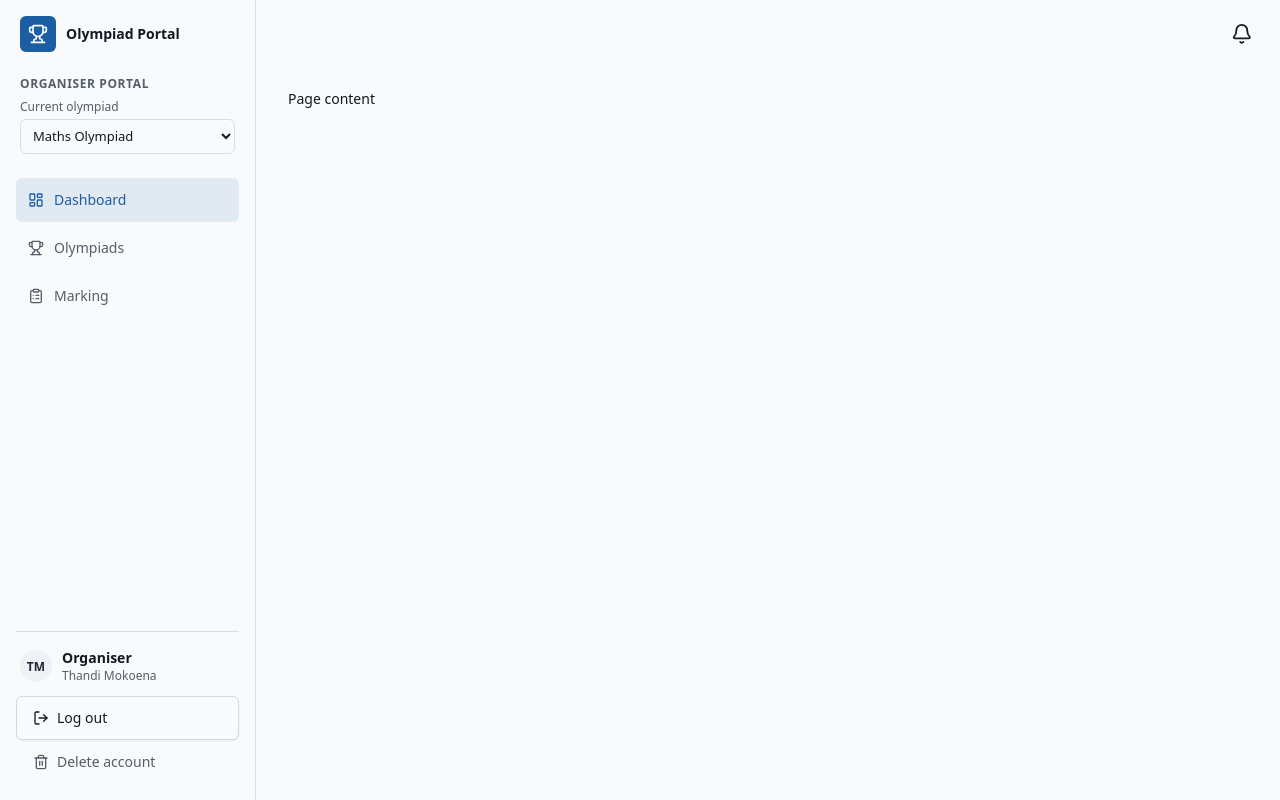
Test: AppShell › distinguishes a notification load error from an empty notification list
The width and height of the screenshot is (1280, 800).
Click the button named "Notifications".
click(1242, 34)  # box [1220, 12, 1264, 56]
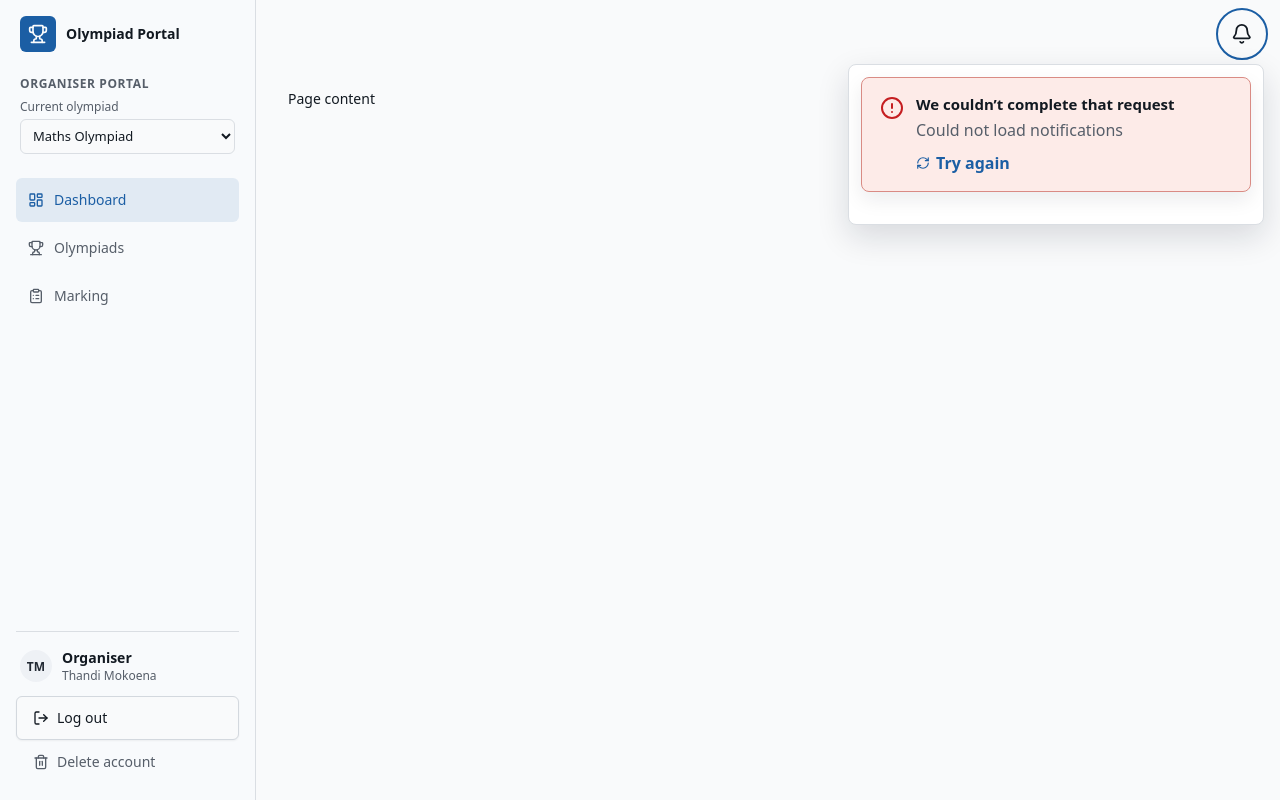
Expected: the text "No notifications yet." is not shown
Expected: the message shows "Could not load notifications", [916, 119, 1123, 141]
Click the button "Try again".
click(963, 163)  # box [916, 152, 1010, 174]
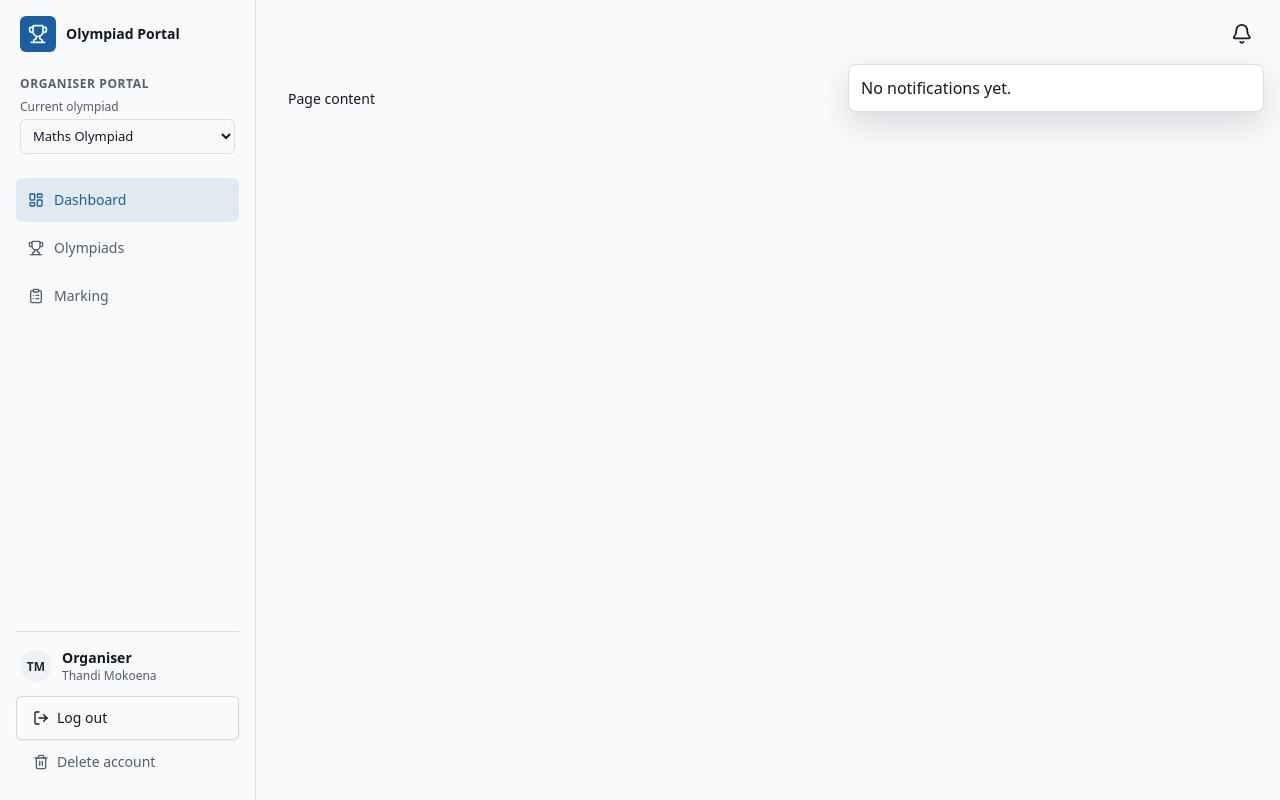
Expected: the text "No notifications yet." is shown, [861, 77, 1011, 99]
